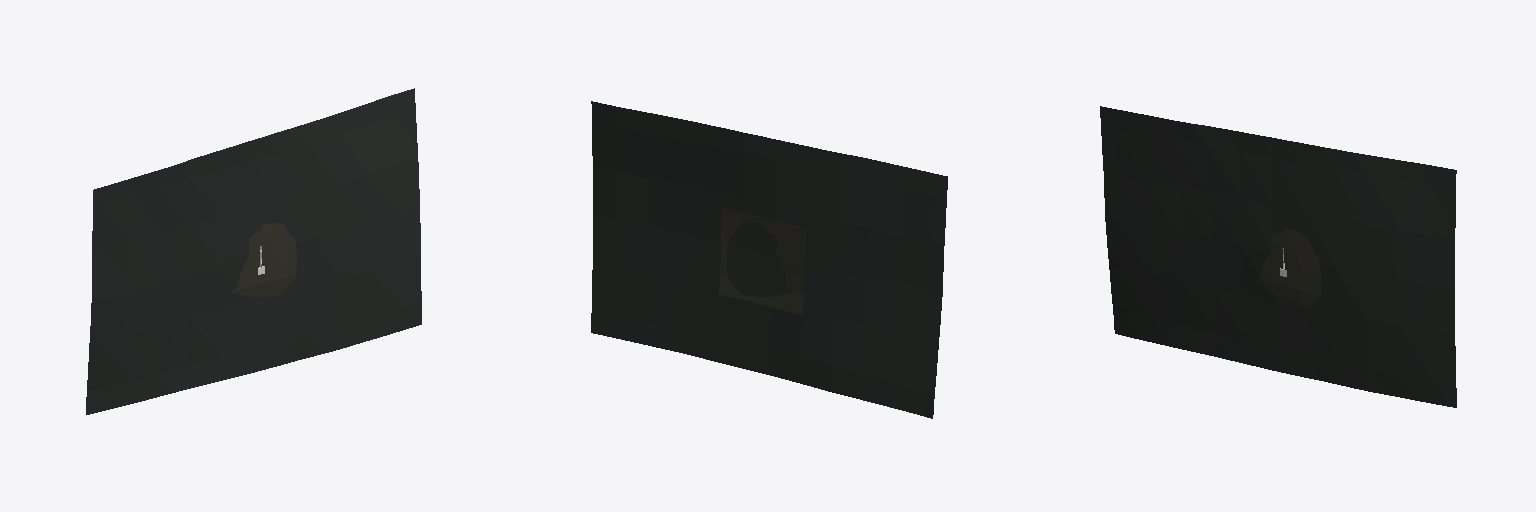
The model's file is Sterngarten_Wien_ground.obj.
3 views of the same model, side by side, from view 1: azimuth 30°, elevation 25°; view 2: azimuth 150°, elevation 25°; view 3: azimuth 330°, elevation 25° (orthographic).
Visible parts, largest first — view 1: Mesh6 Google_Earth_Terrain Model, Mesh7 Google_Earth_Terrain_for_2012_update Model; view 2: Mesh6 Google_Earth_Terrain Model, Mesh7 Google_Earth_Terrain_for_2012_update Model; view 3: Mesh6 Google_Earth_Terrain Model, Mesh7 Google_Earth_Terrain_for_2012_update Model.
Part boxes in pixels (left/top/right/bottom): Mesh6 Google_Earth_Terrain Model: left=86, top=88, right=421, bottom=414; Mesh7 Google_Earth_Terrain_for_2012_update Model: left=232, top=222, right=296, bottom=296; Mesh6 Google_Earth_Terrain Model: left=591, top=101, right=947, bottom=418; Mesh7 Google_Earth_Terrain_for_2012_update Model: left=719, top=207, right=805, bottom=315; Mesh6 Google_Earth_Terrain Model: left=1100, top=106, right=1456, bottom=407; Mesh7 Google_Earth_Terrain_for_2012_update Model: left=1255, top=228, right=1320, bottom=306.
Bounding box in the file's own units: 575 × 386 × 51.58.